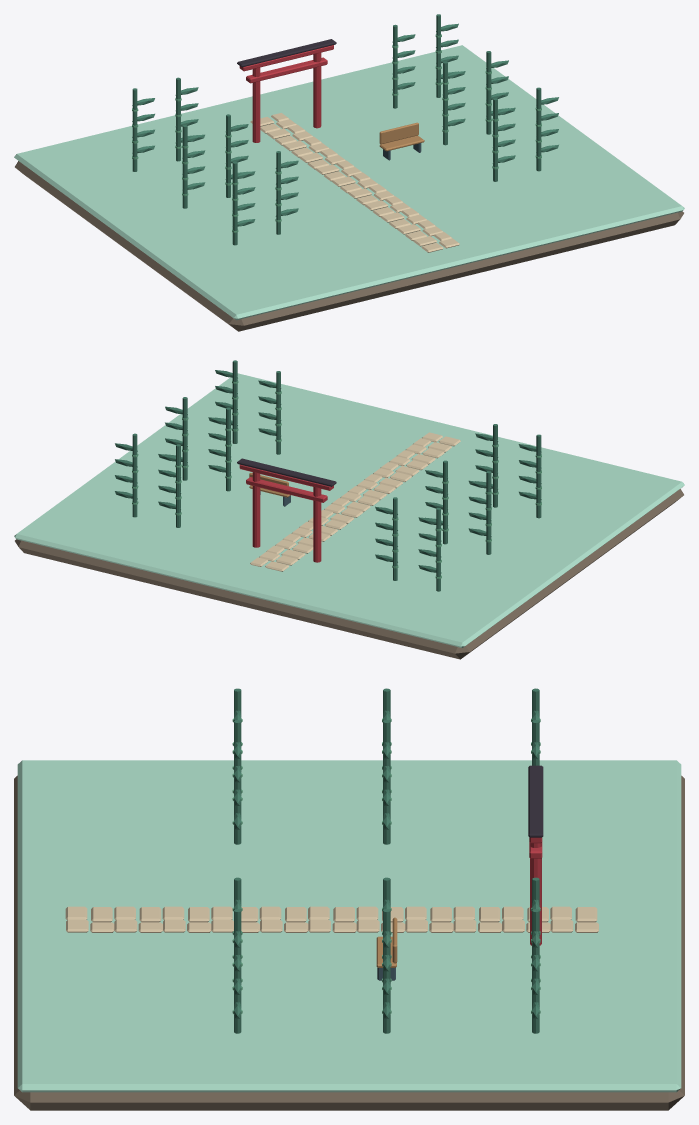
Rendered from world-bamboo.glb.
3 views of the same model, one above another, from view 1: azimuth 30°, elevation 25°; view 2: azimuth 150°, elevation 25°; view 3: azimuth 270°, elevation 25° (orthographic). The views are drawn at different scales.
Visible parts, largest first — view 1: terrain-top, terrain-stratum, torii-cap.001, torii-beam.002, torii-post.002, torii-post.003, bench-back.001; view 2: terrain-top, terrain-stratum, torii-cap.001, torii-beam.002, torii-post.002, torii-post.003, torii-beam.003, bamboo.010, bamboo, bamboo.001, bamboo.009; view 3: terrain-top, terrain-stratum, torii-cap.001.
Boxes of the visible parts, x1=… form: terrain-top: x1=14, y1=45, x2=684, y2=320; terrain-stratum: x1=15, y1=161, x2=683, y2=331; torii-cap.001: x1=237, y1=39, x2=336, y2=67; torii-beam.002: x1=246, y1=57, x2=327, y2=83; torii-post.002: x1=252, y1=67, x2=260, y2=142; torii-post.003: x1=313, y1=52, x2=321, y2=128; bench-back.001: x1=379, y1=122, x2=418, y2=144; terrain-top: x1=14, y1=373, x2=684, y2=648; terrain-stratum: x1=15, y1=489, x2=683, y2=659; torii-cap.001: x1=237, y1=458, x2=336, y2=486; torii-beam.002: x1=246, y1=477, x2=327, y2=502; torii-post.002: x1=313, y1=487, x2=321, y2=562; torii-post.003: x1=252, y1=472, x2=260, y2=547; torii-beam.003: x1=239, y1=464, x2=333, y2=490; bamboo.010: x1=182, y1=397, x2=187, y2=480; bamboo: x1=536, y1=434, x2=541, y2=518; bamboo.001: x1=486, y1=471, x2=491, y2=554; bamboo.009: x1=232, y1=360, x2=237, y2=443; terrain-top: x1=17, y1=760, x2=681, y2=1092; terrain-stratum: x1=14, y1=775, x2=684, y2=1110; torii-cap.001: x1=528, y1=765, x2=543, y2=837.
Bounding box in the file's own units: 21 × 4.51 × 18.
